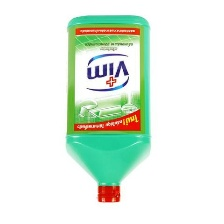cleaning_solution: (63, 10, 153, 204)
